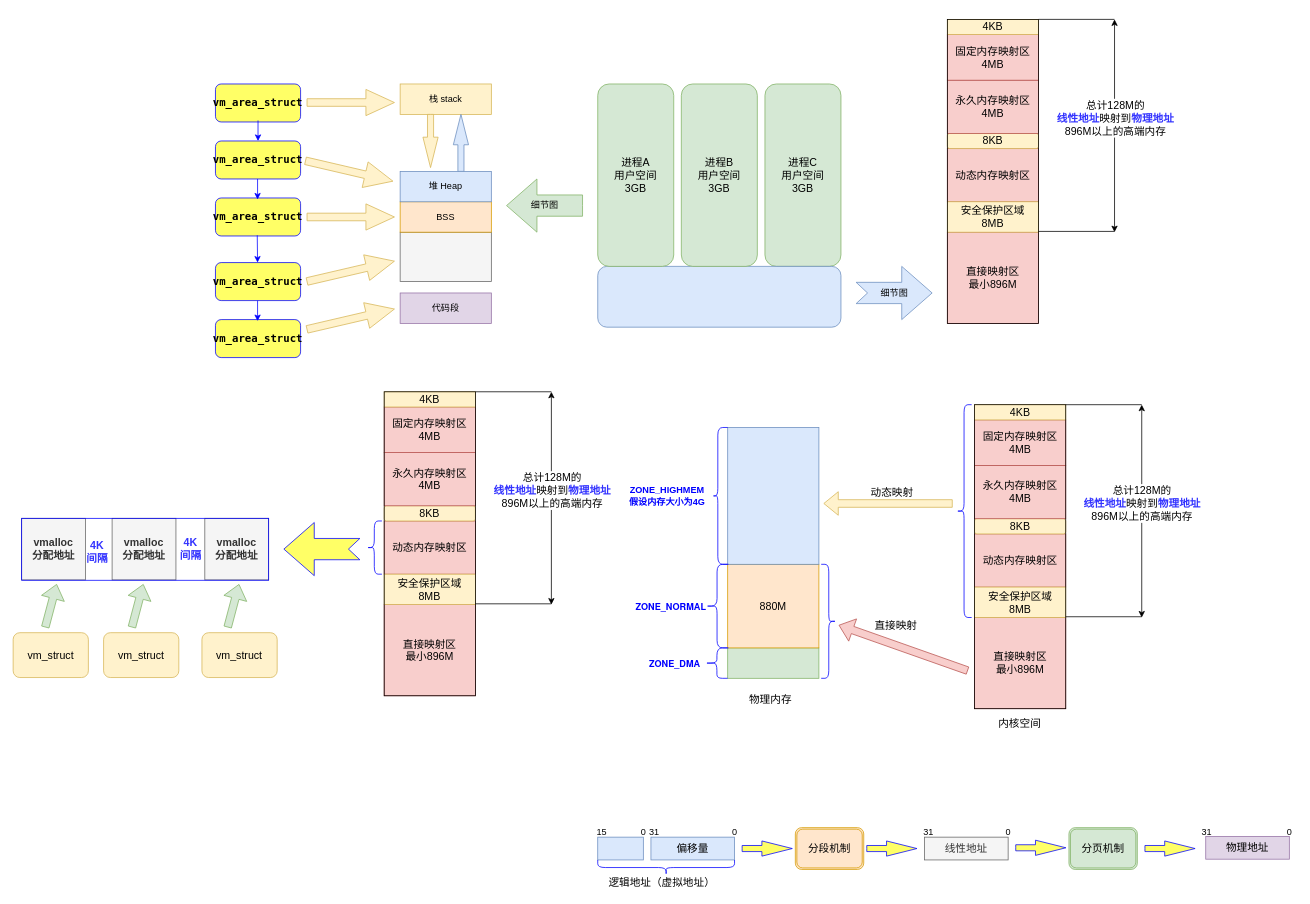
This 1310x904 diagram has some shape labels left out. The box of each missing label's shape, as (x1, y1, x2, y2) in pixels:
16M: (727, 647, 819, 678)
880M~4G: (727, 427, 819, 564)
内核空间 1GB: (597, 266, 841, 327)
数据段: (399, 231, 491, 282)
段选择符: (597, 836, 643, 860)
